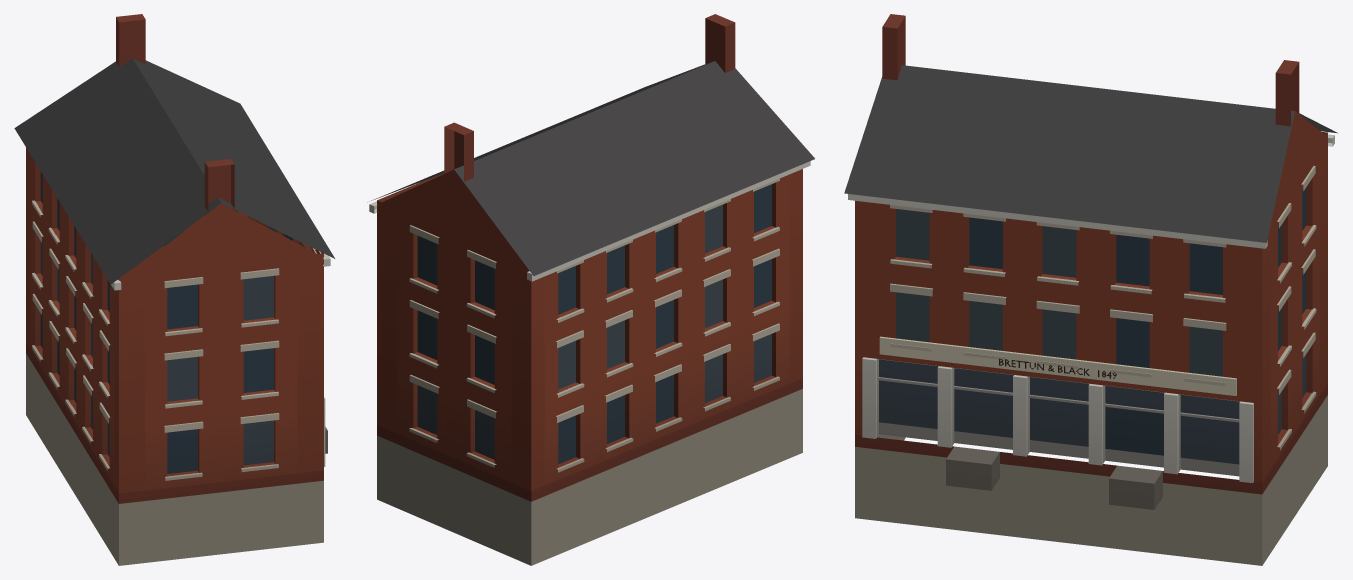
Rendered from blacksstore.glb.
3 views of the same model, side by side, from view 1: azimuth 30°, elevation 25°; view 2: azimuth 150°, elevation 25°; view 3: azimuth 270°, elevation 25° (orthographic). The views are drawn at different scales.
Visible parts, largest first — view 1: blacksstore_lod0; view 2: blacksstore_lod0; view 3: blacksstore_lod0.
Boxes of the visible parts, box(x1,y1,x2,y2) form: blacksstore_lod0: box(14, 14, 334, 565); blacksstore_lod0: box(367, 14, 814, 565); blacksstore_lod0: box(844, 14, 1337, 565).
Size of what is drawn, in the model's own units: 14.33 by 18.8 by 18.82.
